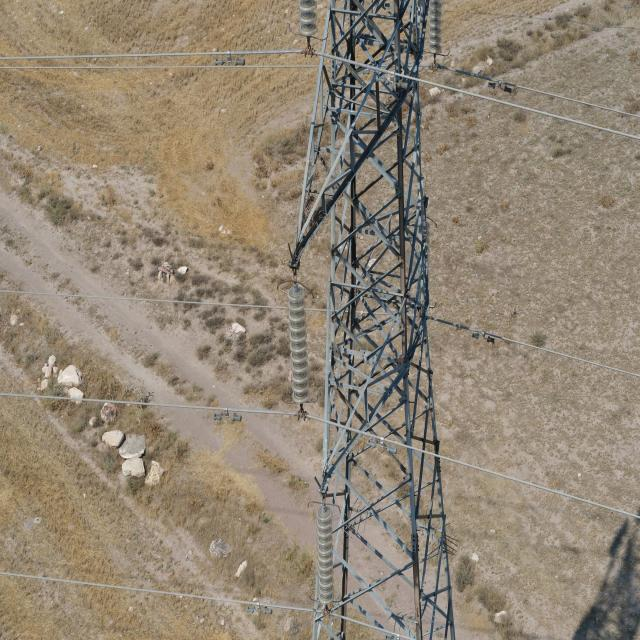direk: (292, 0, 461, 637)
